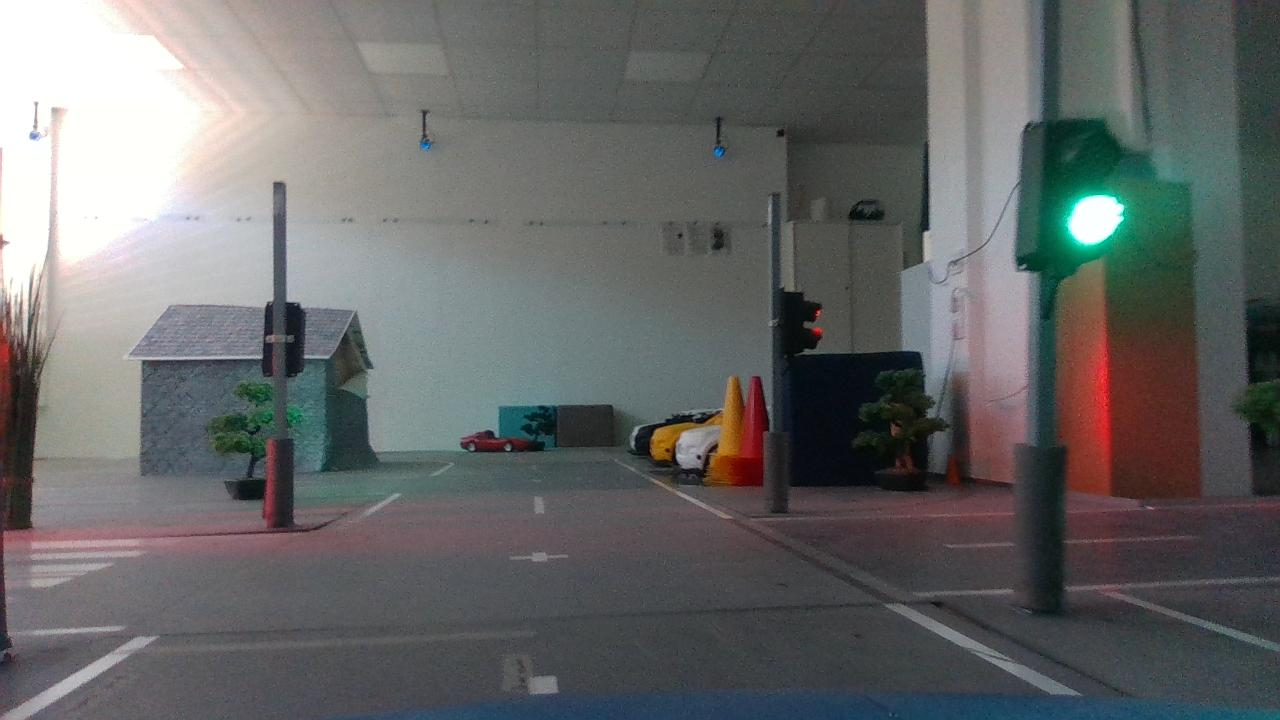traffic_light_green: (1006, 104, 1137, 283)
